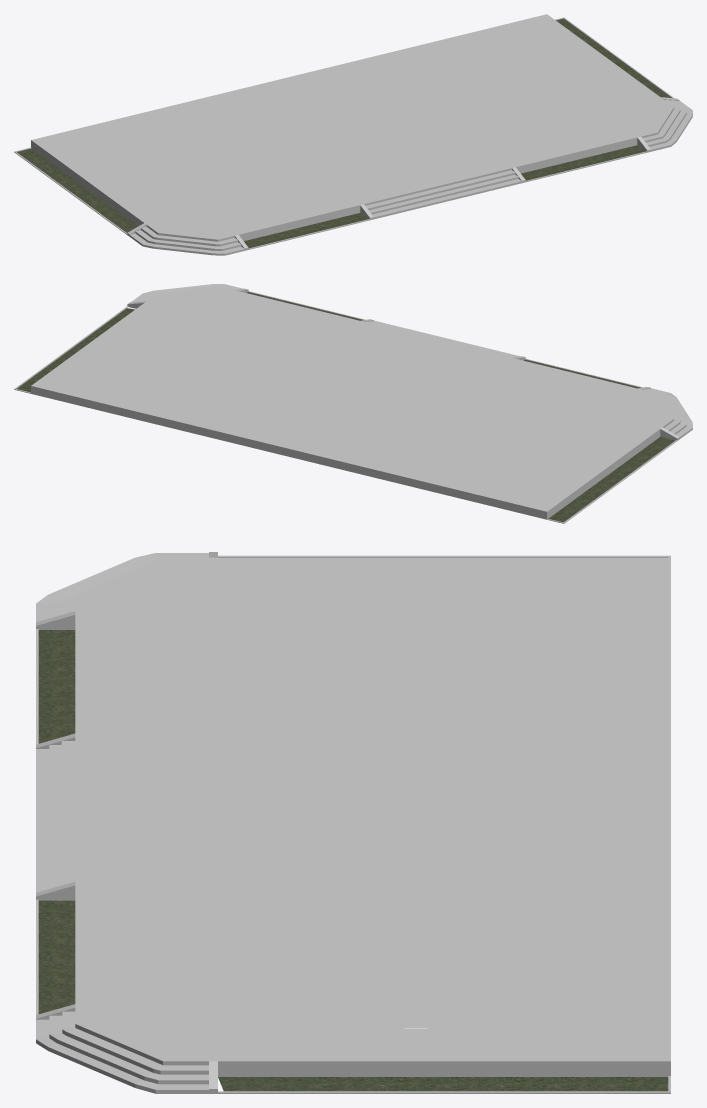
3 views of the same model, one above another, from view 1: azimuth 30°, elevation 25°; view 2: azimuth 150°, elevation 25°; view 3: azimuth 270°, elevation 25° (orthographic). The views are drawn at different scales.
Visible parts, largest first — view 1: Base-DC-03; view 2: Base-DC-03; view 3: Base-DC-03.
Boxes of the visible parts, x1,y1,x2,y2 form: Base-DC-03: [14, 14, 692, 255]; Base-DC-03: [14, 284, 692, 523]; Base-DC-03: [36, 552, 670, 1093].
Size of what is drawn, in the model's own units: 72 by 1 by 36.
